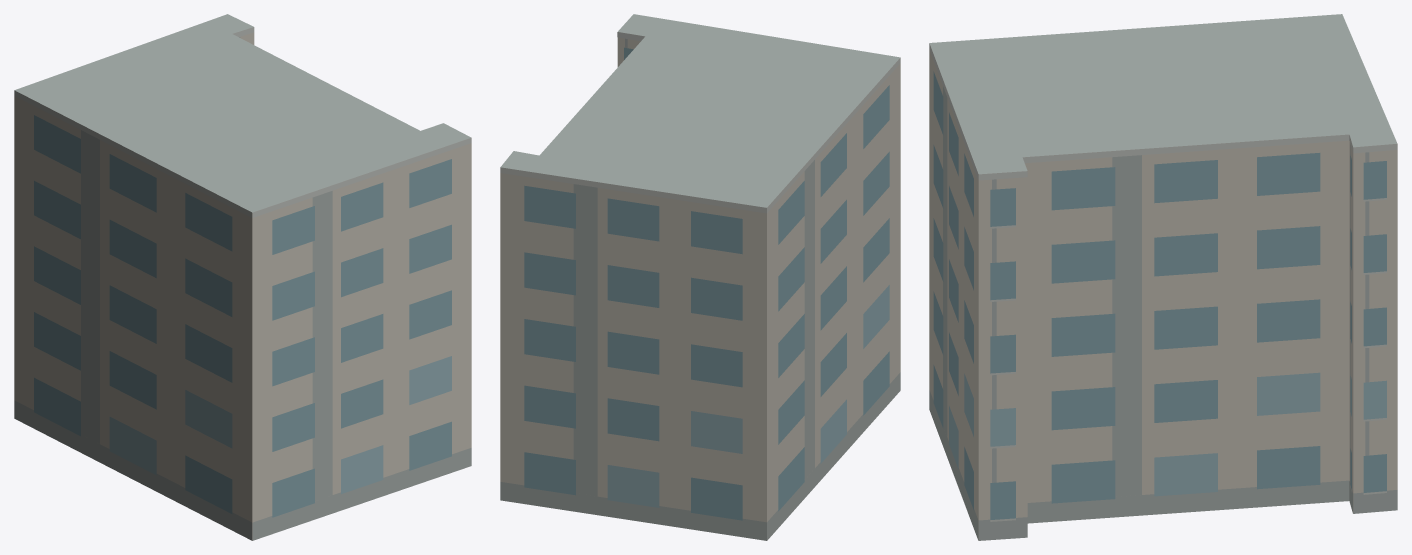
The model's file is survey-upis-32704851.glb.
3 views of the same model, side by side, from view 1: azimuth 30°, elevation 25°; view 2: azimuth 150°, elevation 25°; view 3: azimuth 270°, elevation 25° (orthographic). The views are drawn at different scales.
Parts seen in each view (by area): view 1: survey-upis-32704851.tmp; view 2: survey-upis-32704851.tmp; view 3: survey-upis-32704851.tmp.
Part boxes in pixels (x1,y1,x2,y2): survey-upis-32704851.tmp: (14, 14, 471, 540); survey-upis-32704851.tmp: (500, 14, 900, 540); survey-upis-32704851.tmp: (929, 14, 1397, 540).
Bounding box in the file's own units: 13.66 × 14.55 × 16.85.
